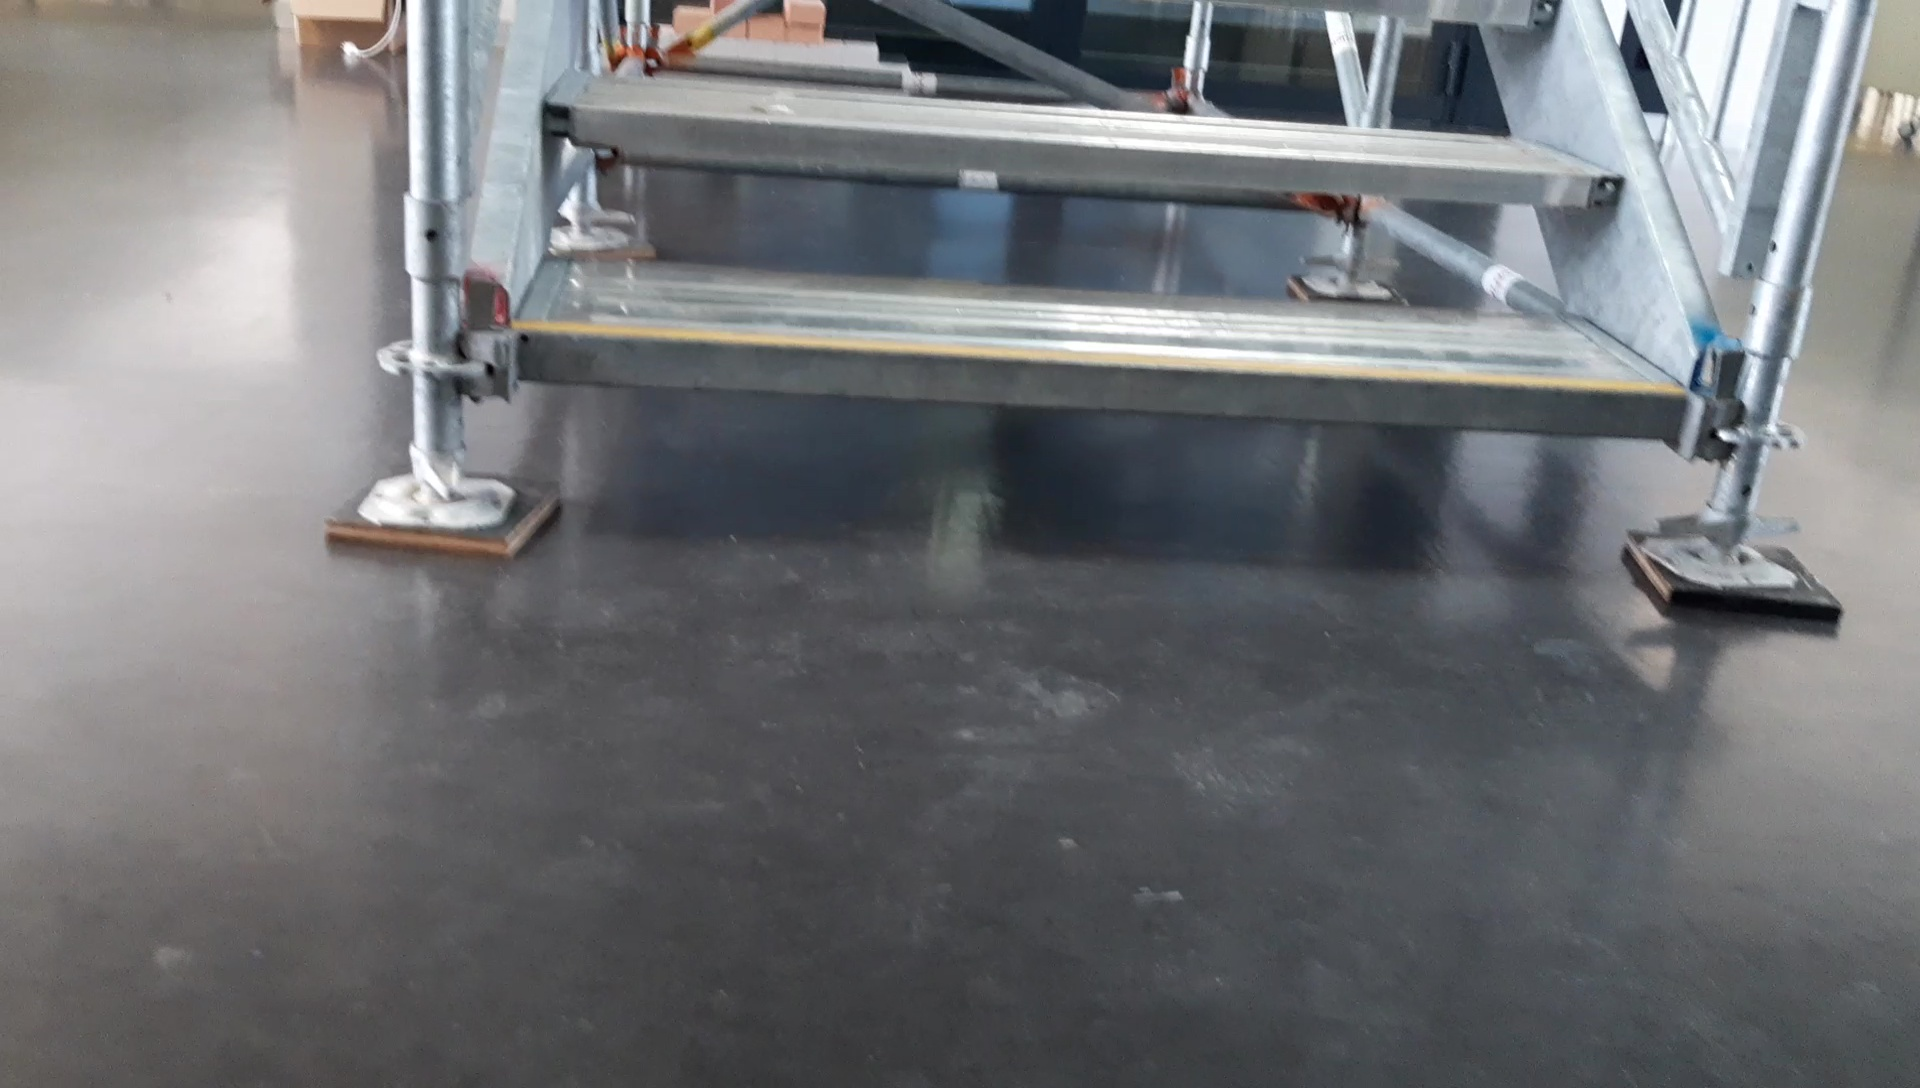brick: (785, 44, 824, 65), (750, 20, 785, 41), (789, 22, 823, 42), (845, 42, 877, 59), (820, 42, 845, 62)
edge: (514, 324, 1683, 440), (542, 103, 1625, 207)
stairs: (324, 3, 1842, 630)
